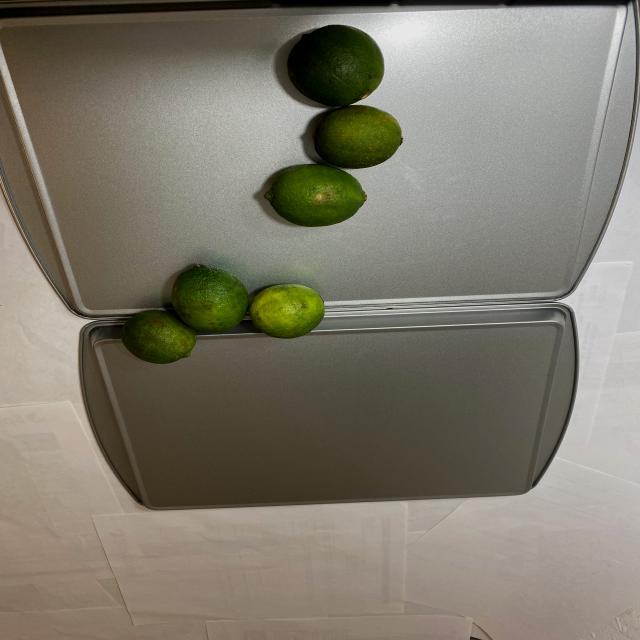lemon: (254, 23, 416, 241), (113, 258, 334, 364)
